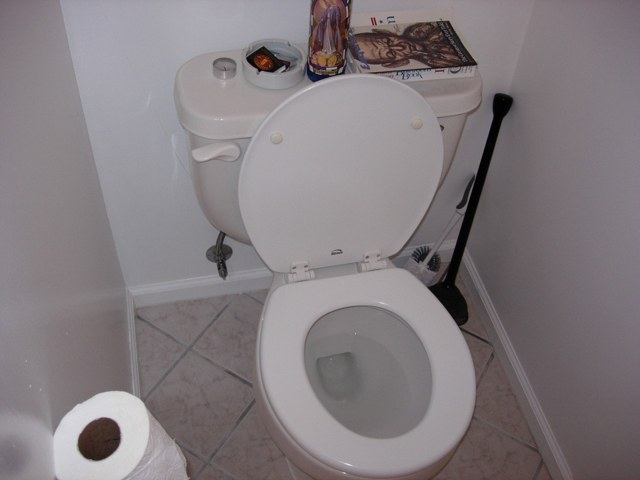toilet_paper: (54, 391, 190, 480)
